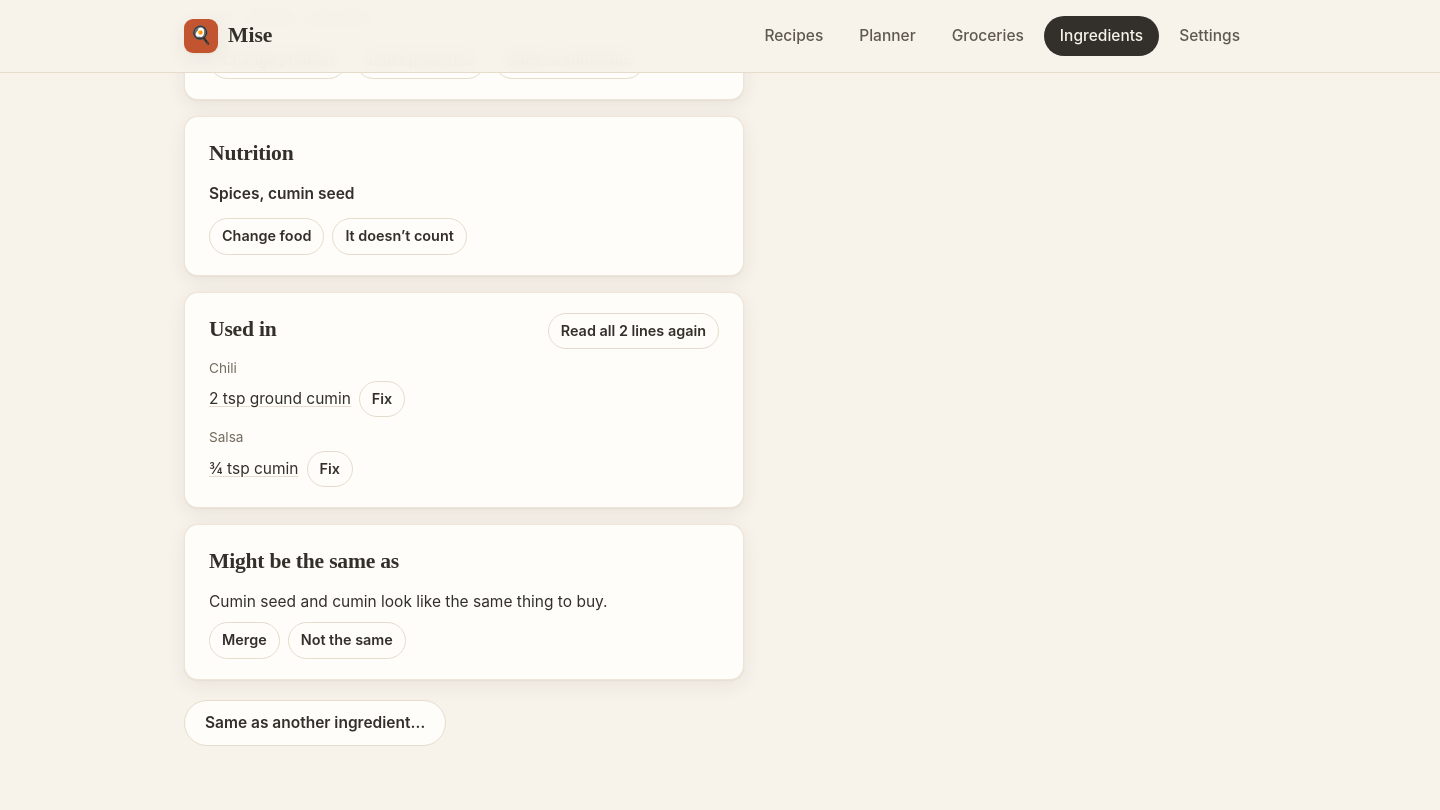
Test: IngredientPage: suggested merges › lists what it might be the same as, and opens the preview for one
(page scrolled)
Click the button "Merge" at (244, 640), box [209, 622, 280, 659]
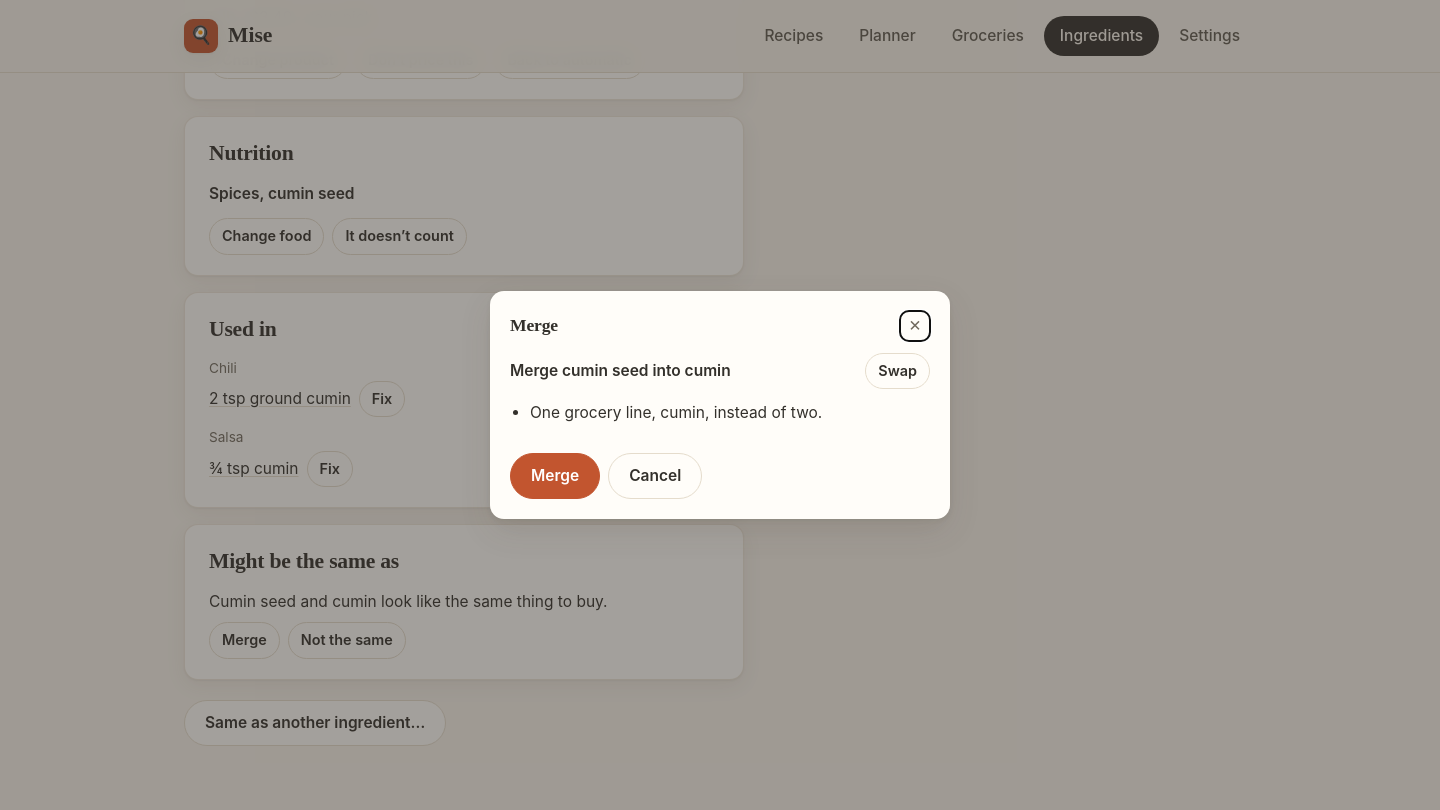
Expected: the text "Merge cumin seed into cumin" is shown, [510, 359, 731, 383]
